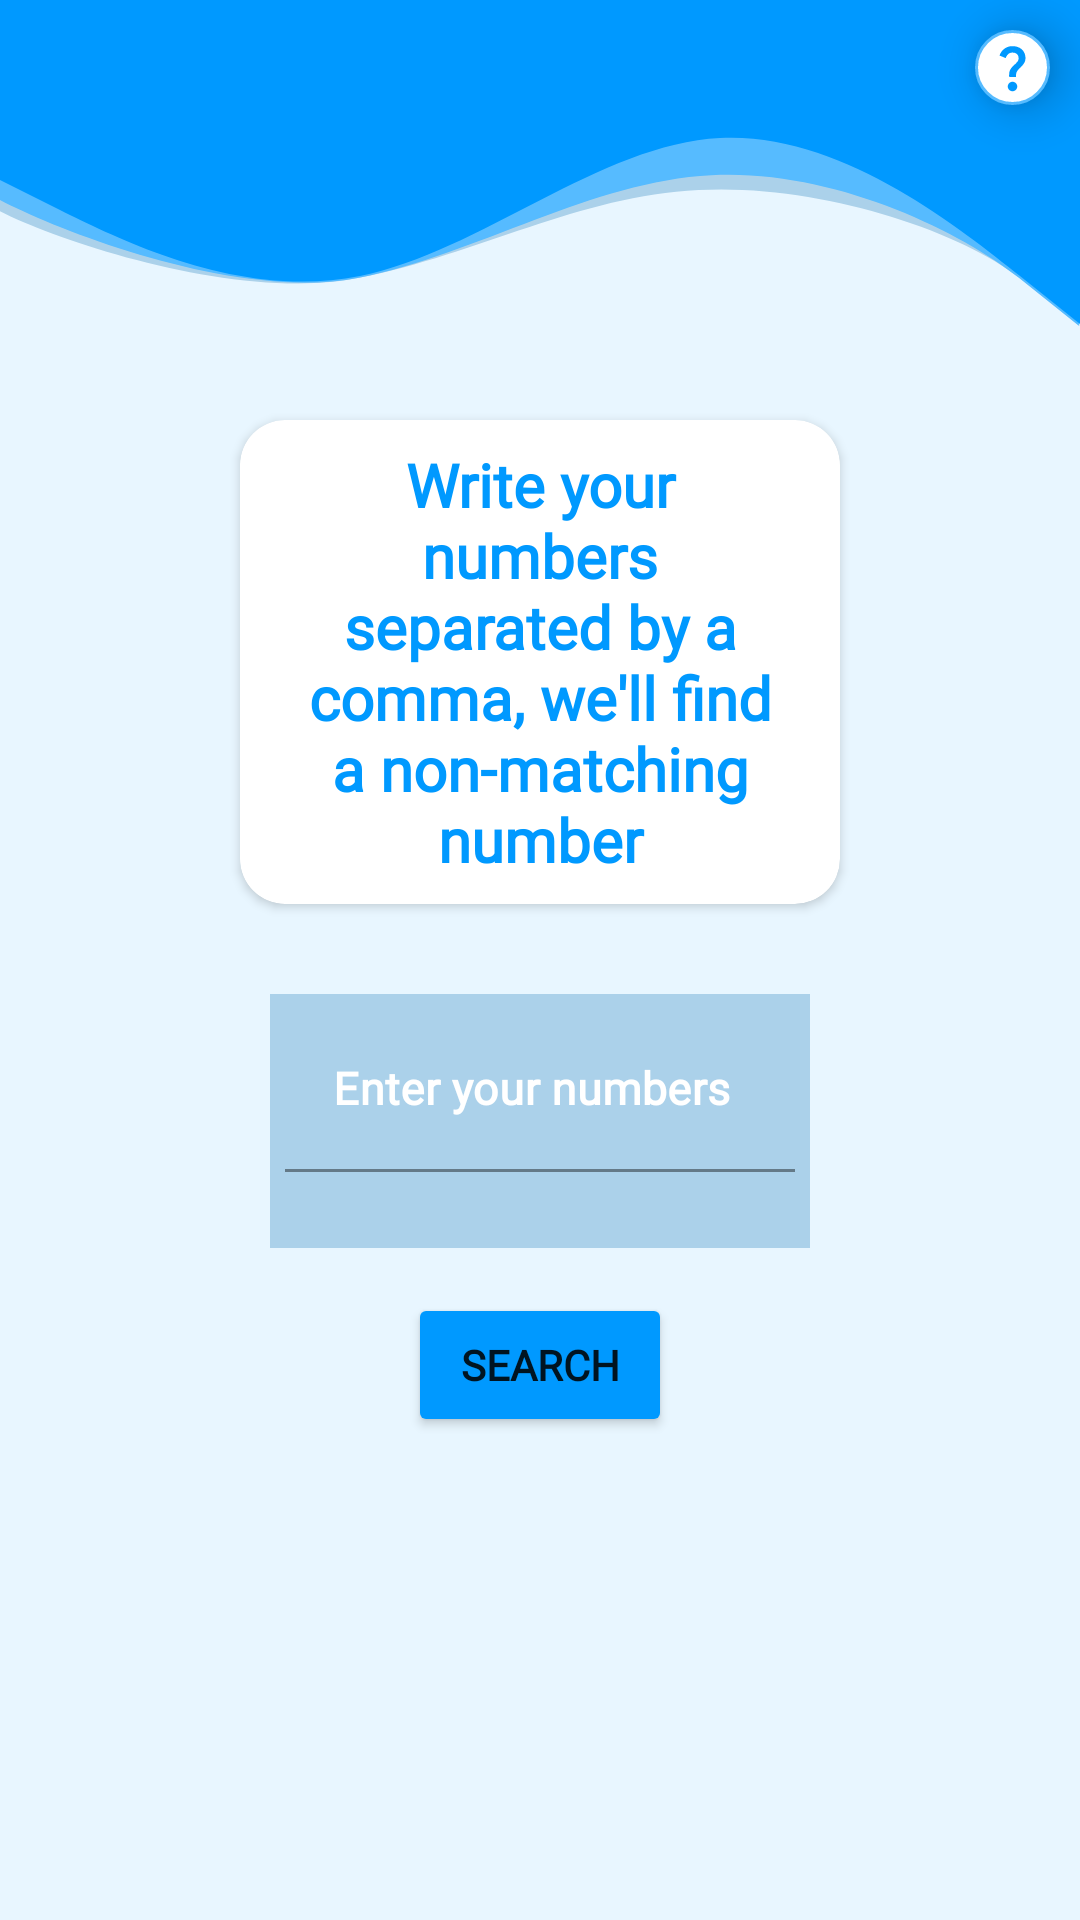

Icons on this 1080x1920 Android screen, each with the point to tap as [x,y]:
question mark: [1012,67]
